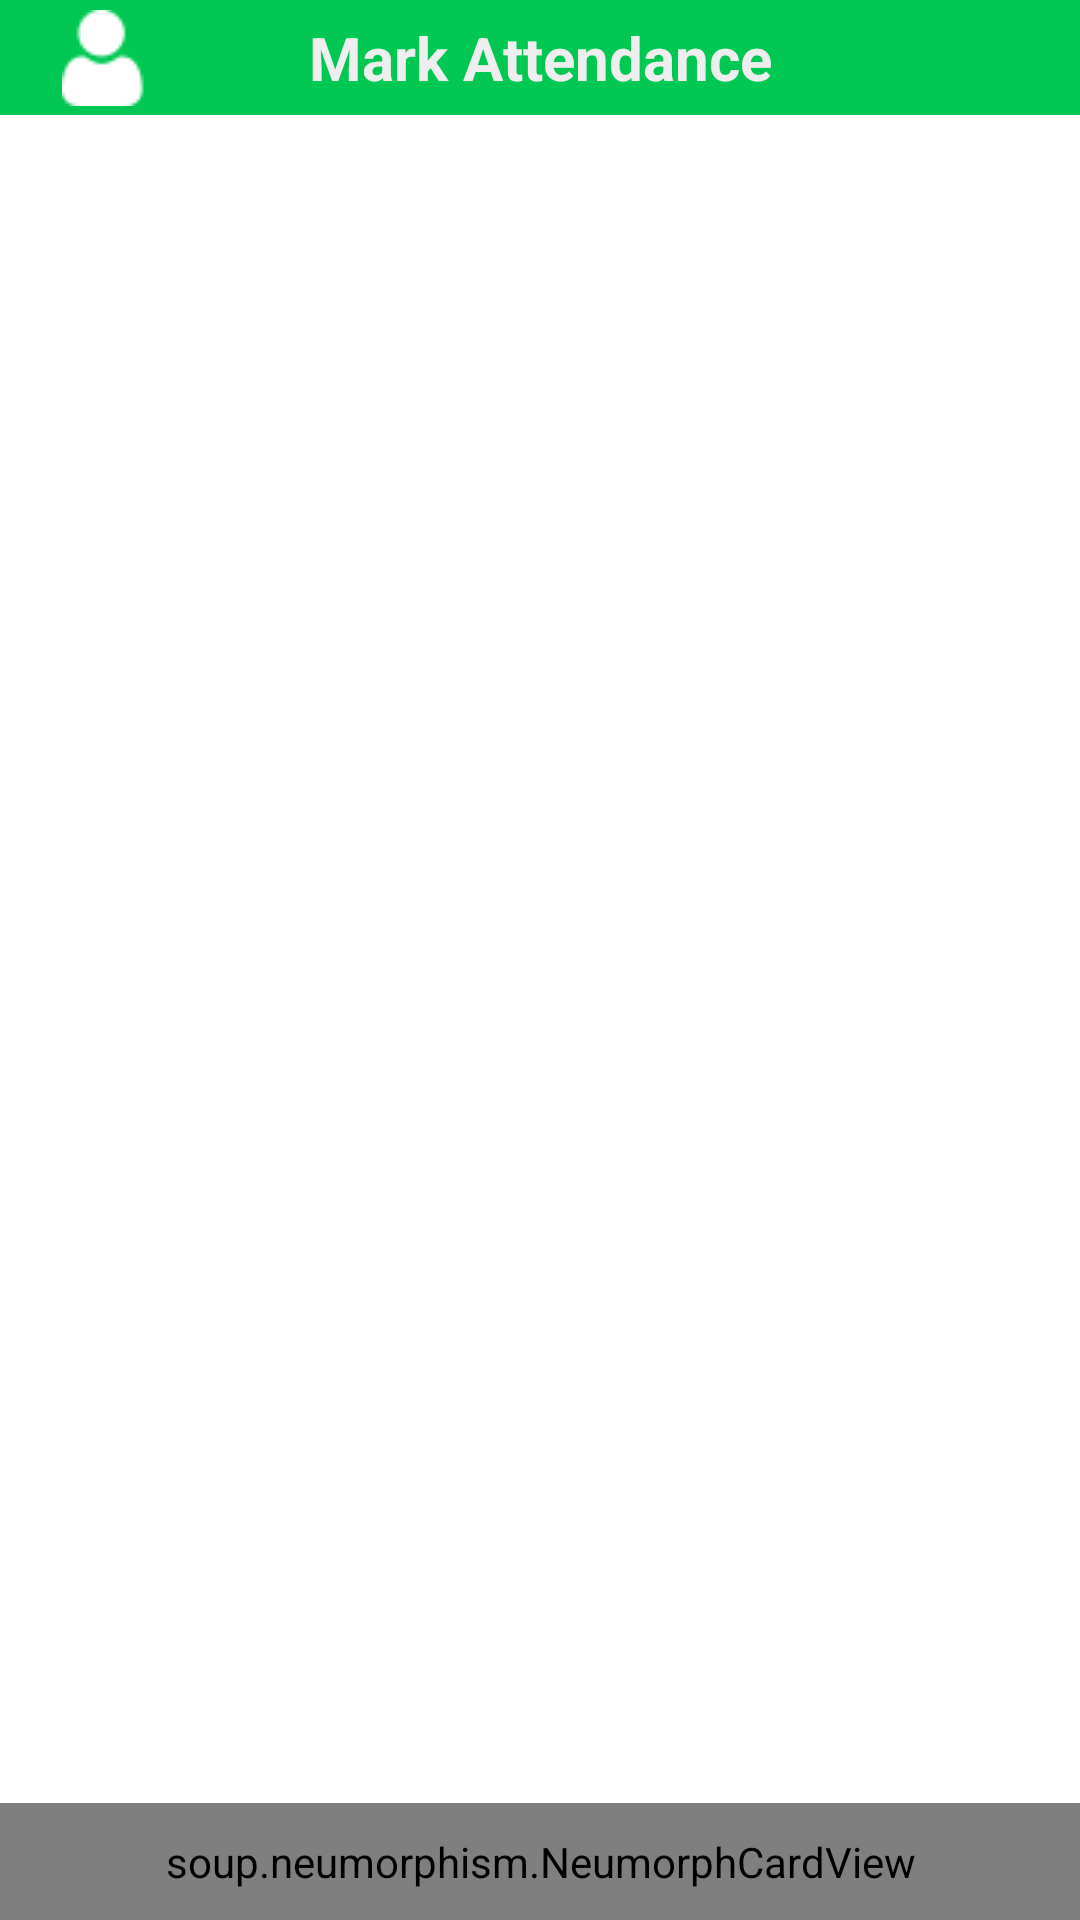

Icons on this 1080×1920 Android screen, each with the point to tap as [x,y]:
profile: [103,58]
